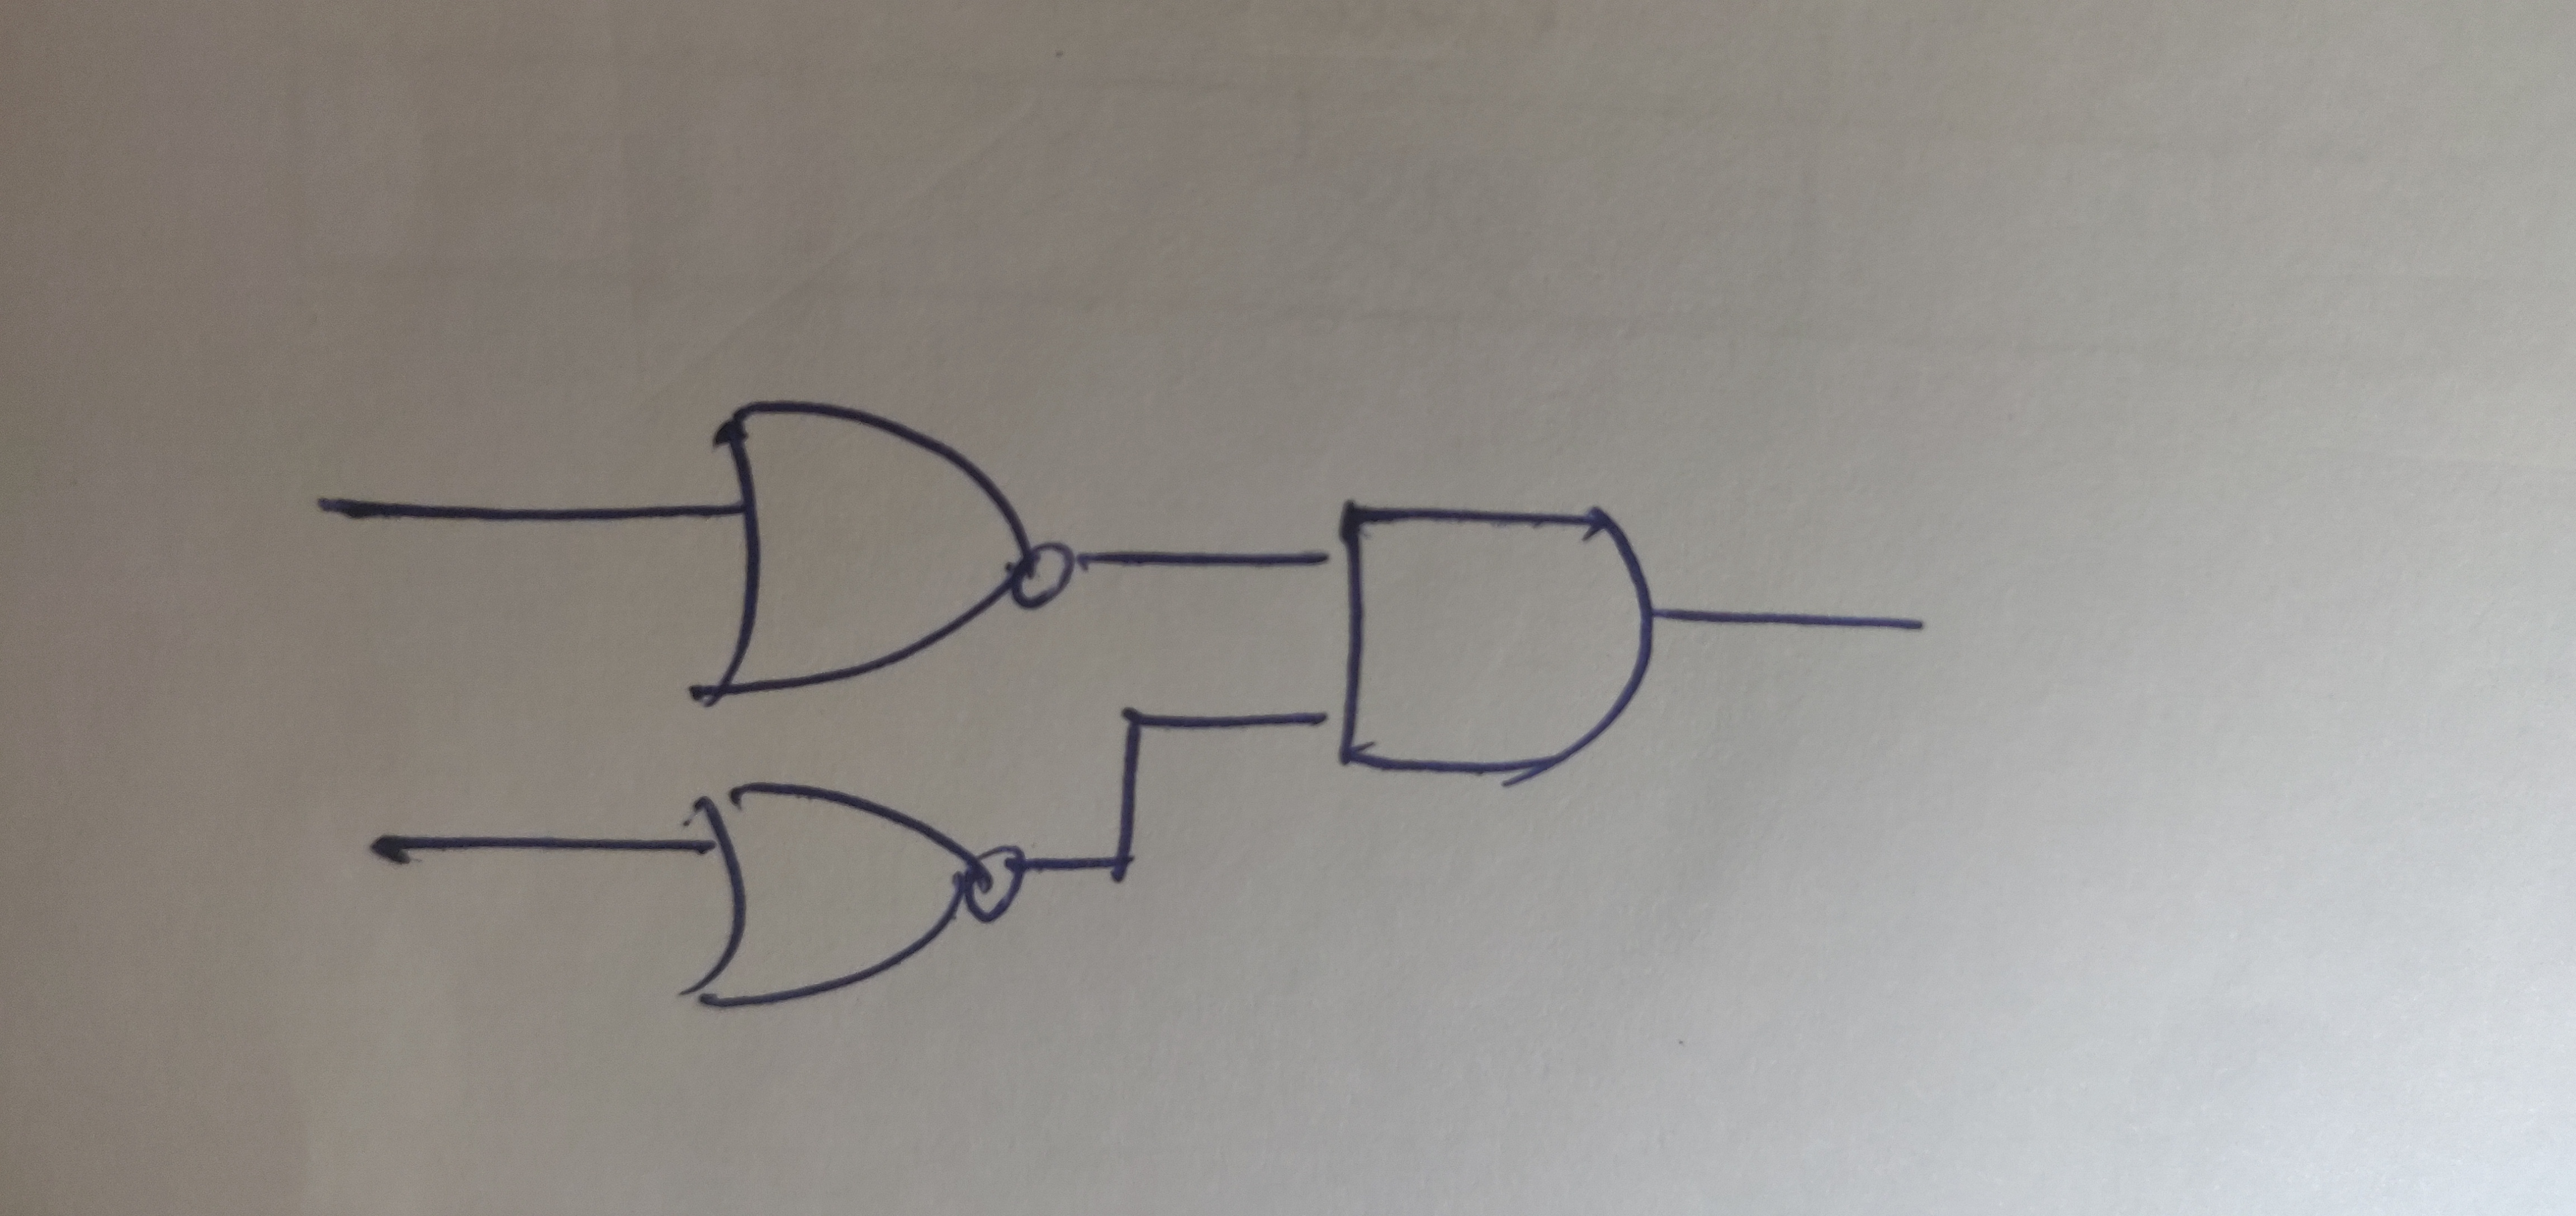and: (1278, 460, 1712, 835)
nor: (660, 362, 1107, 736), (664, 772, 1091, 1048)
